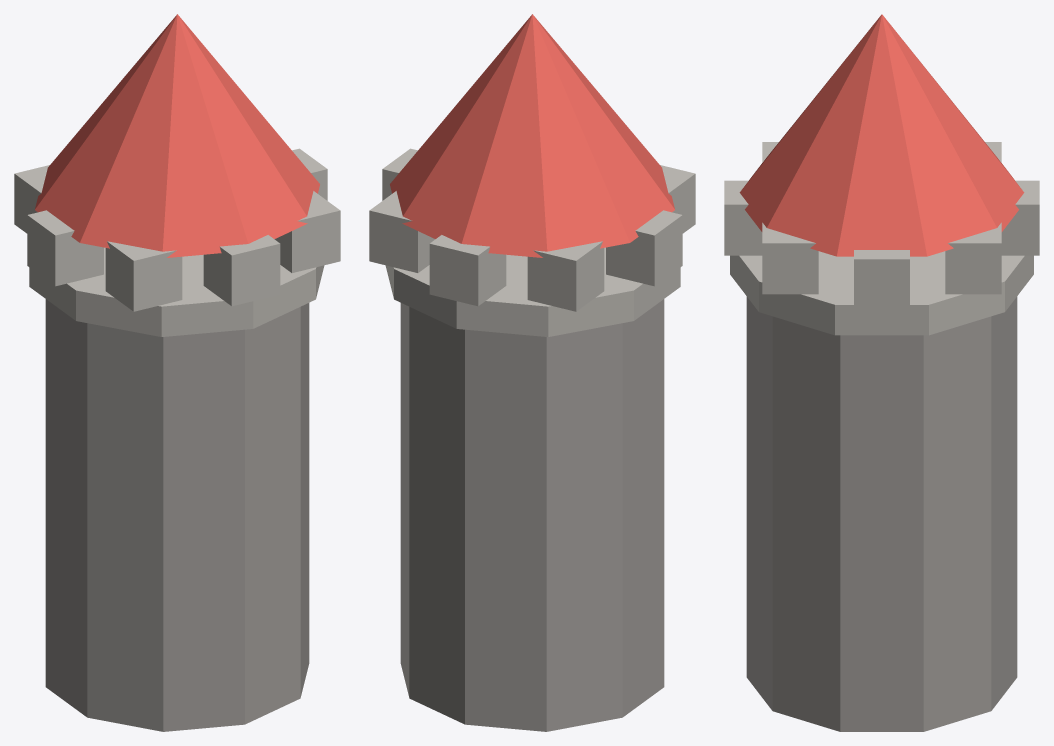
The model's file is Tower.fbx.
3 renders of one model, left to right at view 1: azimuth 30°, elevation 25°; view 2: azimuth 150°, elevation 25°; view 3: azimuth 270°, elevation 25°, orthographic.
Visible parts, largest first — view 1: Body; view 2: Body; view 3: Body.
Boxes of the visible parts, x1,y1,x2,y2 form: Body: (14, 14, 340, 731); Body: (369, 14, 695, 731); Body: (724, 14, 1039, 731).
Size of the model in its own units: 2.8 by 6.5 by 2.8.
